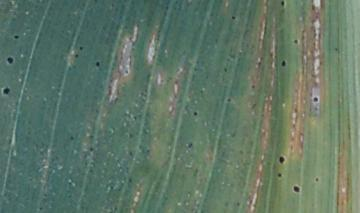tarspot: (2, 86, 12, 97), (4, 55, 15, 65), (291, 184, 301, 194), (278, 154, 286, 166), (279, 57, 287, 67), (186, 140, 194, 150), (312, 95, 320, 104), (225, 96, 233, 104), (94, 60, 102, 68), (278, 1, 287, 8), (192, 110, 199, 118), (88, 145, 95, 153), (222, 66, 229, 74), (123, 69, 131, 76), (292, 38, 299, 45), (12, 34, 19, 41), (250, 83, 257, 90), (277, 171, 283, 179), (314, 175, 320, 183), (77, 45, 83, 52), (73, 52, 80, 58), (69, 133, 74, 141), (230, 15, 236, 21), (333, 46, 338, 53)
